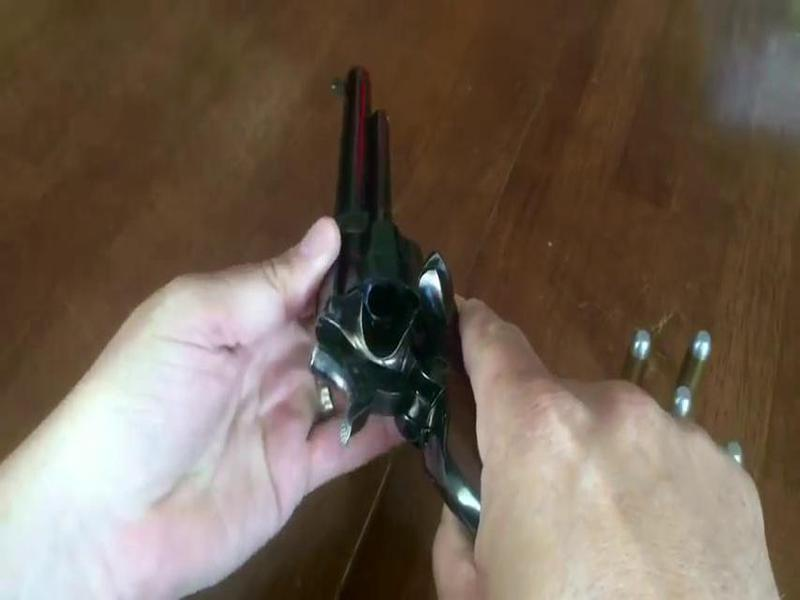Revolver: (280, 44, 501, 491)
